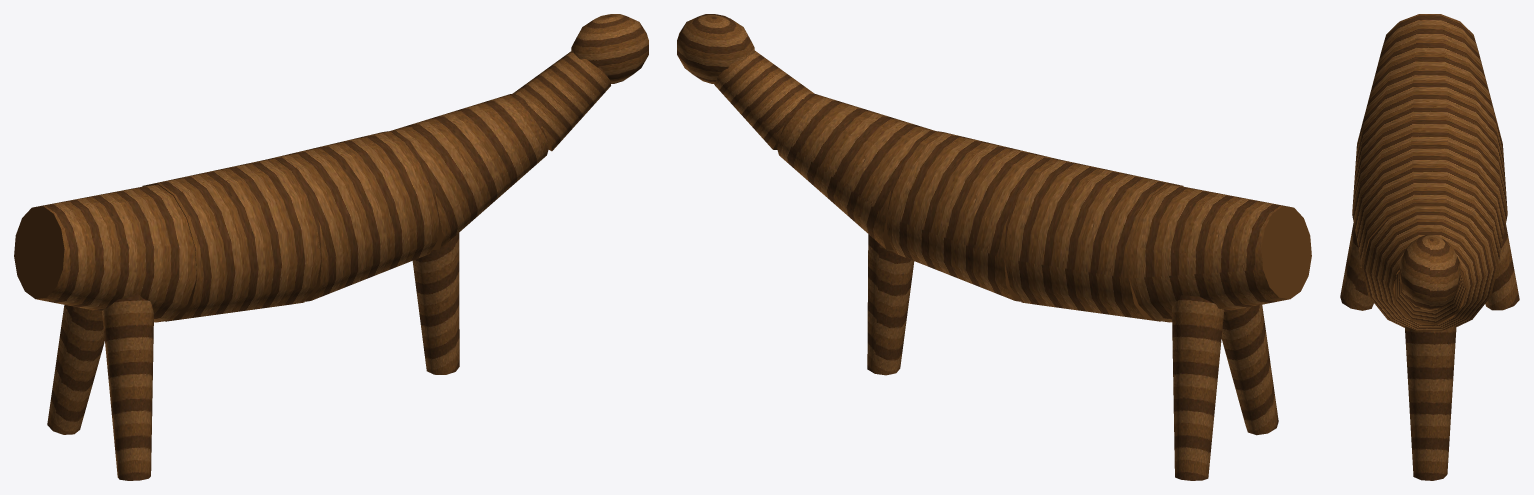
The model's file is tabouret-lobi.glb.
3 views of the same model, side by side, from view 1: azimuth 30°, elevation 25°; view 2: azimuth 150°, elevation 25°; view 3: azimuth 270°, elevation 25° (orthographic). The views are drawn at different scales.
Parts seen in each view (by area): view 1: tabouret-lobi; view 2: tabouret-lobi; view 3: tabouret-lobi.
Part boxes in pixels (bbox=[...]): tabouret-lobi: bbox=[14, 14, 648, 480]; tabouret-lobi: bbox=[677, 14, 1311, 480]; tabouret-lobi: bbox=[1340, 14, 1519, 480].
Bounding box in the file's own units: 0.7555 × 0.367 × 0.1847.
1 material, 1 textured.
